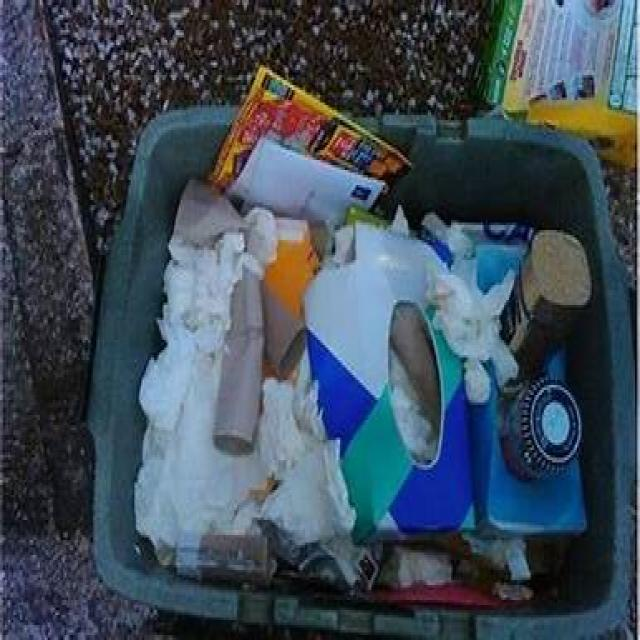Garbage: (134, 68, 592, 608)
Plastic_Container: (308, 313, 474, 538), (470, 377, 586, 535), (475, 237, 526, 292), (544, 345, 566, 383)
Plastic_wraper: (210, 66, 410, 189)
can: (501, 230, 591, 377), (501, 377, 581, 479), (156, 532, 276, 581)
